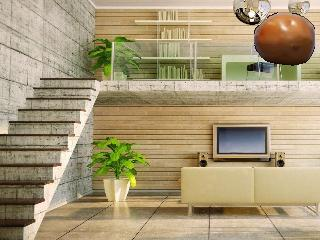potato: (253, 13, 316, 66)
